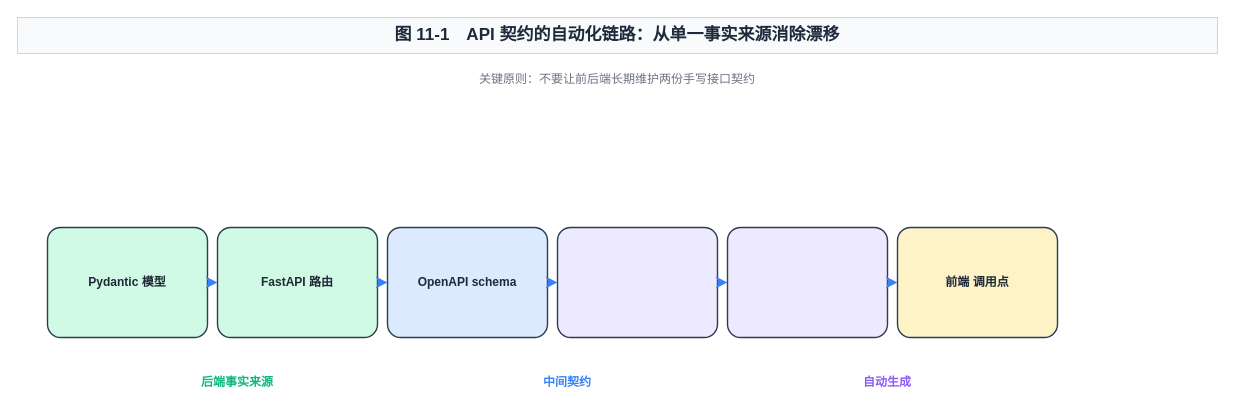
This 1235x415 diagram has some shape labels left out. The shapes that lost their labels are listed below. From the top down, each one's centre as x and y in pixels, then its label:
At [637,282]: "TypeScript 类型".
At [807,282]: "API Client （hey-api）".
